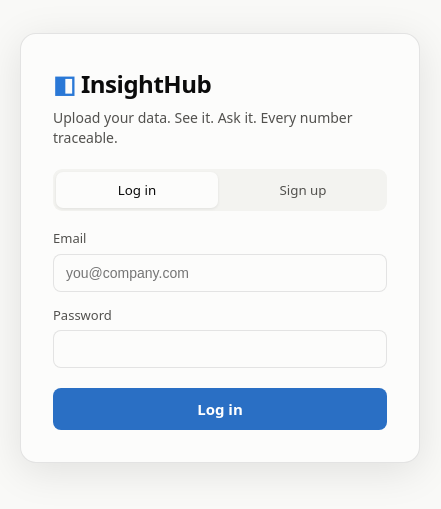
Scenario: Login › shows a plain error message
Step 1. Type "a@b.com" into the field labelled "Email" → (220, 273), box [53,254,387,292]
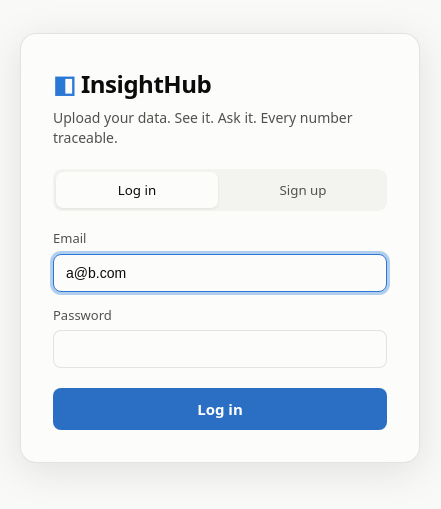
Step 2. Type "wrong-password-x" into the password field labelled "Password" → (220, 349), box [53,330,387,368]
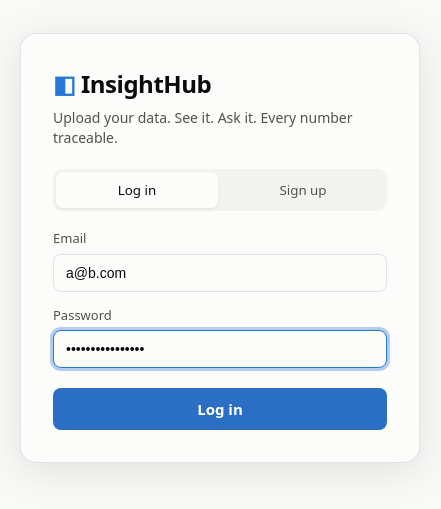
Step 3. Click the button "Log in" below "Password" → click(220, 409), box [53,388,387,430]
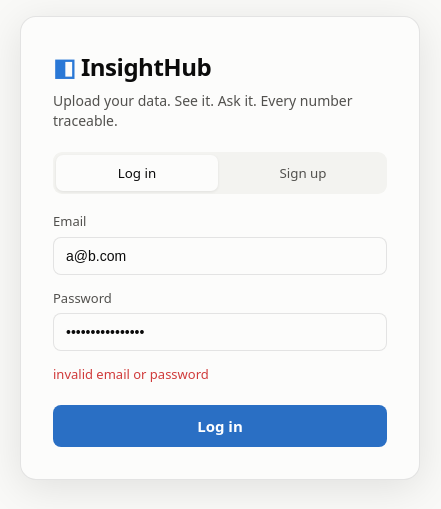
Check: the text "invalid email or password" is shown, box [53,365,209,383]
